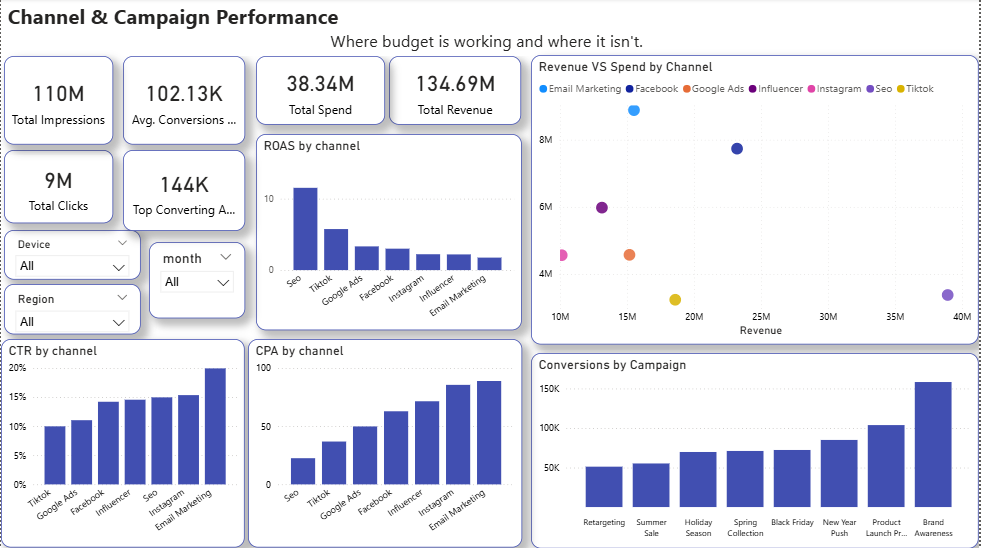

The dashboard page shown, as its layout file describes it:
{"tool":"powerbi","page":{"name":"Channel & Campaign","canvas":[1280,720],"ordinal":1},"visuals":[{"type":"card","fields":{"Values":["Avg(age_group.conversions)"]},"box":[160.2,76.4,160.2,116.1],"z":0},{"type":"card","fields":{"Values":["Sum(campaign_data.Revenue_USD)"]},"box":[508.4,76.4,173.4,89.6],"z":1000},{"type":"card","fields":{"Values":["Sum(campaign_data.Spend_USD)"]},"box":[333.6,76.4,169,89.6],"z":2000},{"type":"clusteredColumnChart","fields":{"Category":["CTR.channel"],"Y":["ROAS.ROAS_fixed"]},"box":[333.6,177.8,348.2,257.1],"z":3000},{"type":"slicer","fields":{"Values":["campaign_data.Device"]},"box":[4.4,304.2,179.3,64.7],"z":4000},{"type":"textbox","box":[4.4,0,1263.7,76.4],"z":5000},{"type":"slicer","fields":{"Values":["campaign_data.Region"]},"box":[4.4,374.7,179.3,66.1],"z":6000},{"type":"slicer","fields":{"Values":["mOm.month"]},"box":[194,318.9,126.4,99.9],"z":7000},{"type":"card","fields":{"Values":["Sum(campaign_data.Clicks)"]},"box":[4.4,198.4,142.5,95.5],"z":8000},{"type":"card","fields":{"Values":["Sum(campaign_data.Impressions)"]},"box":[4.4,76.4,142.5,116.1],"z":9000},{"type":"card","fields":{"Values":["Max(age_group.conversions)"]},"box":[160.2,198.4,160.2,105.8],"z":10000},{"type":"scatterChart","title":"Revenue VS Spend by Channel","fields":{"X":["Sum(campaign_data.Revenue_USD)"],"Series":["campaign_data.Channel"],"Y":["Sum(campaign_data.Spend_USD)"]},"box":[693.6,74.9,586.3,379.1],"z":11000},{"type":"clusteredColumnChart","title":"Conversions by Campaign","fields":{"Category":["most_conversions.Campaign"],"Y":["Sum(most_conversions.Conversions)"]},"box":[693.6,464.3,586.3,255.7],"z":12000},{"type":"clusteredColumnChart","title":"CTR by channel","fields":{"Category":["CTR.channel"],"Y":["CountNonNull(CTR.CTR_percent)"]},"box":[0,446.7,318.9,273.3],"z":13000},{"type":"clusteredColumnChart","title":"CPA by channel","fields":{"Category":["CTR.channel"],"Y":["Sum(CPA.CPA)"]},"box":[323.3,446.7,358.5,273.3],"z":14000}]}

Visuals, with their boxes in screenshot pixels (x1, y1, x2, y2), scaled from the page's 1280x720 canvas onto the 981x548 screenshot:
card - Avg(age_group.conversions): l=123, t=58, r=246, b=147
card - Sum(campaign_data.Revenue_USD): l=390, t=58, r=523, b=126
card - Sum(campaign_data.Spend_USD): l=256, t=58, r=385, b=126
clusteredColumnChart - CTR.channel x ROAS.ROAS_fixed: l=256, t=135, r=523, b=331
slicer - campaign_data.Device: l=3, t=232, r=141, b=281
textbox: l=3, t=0, r=972, b=58
slicer - campaign_data.Region: l=3, t=285, r=141, b=335
slicer - mOm.month: l=149, t=243, r=246, b=319
card - Sum(campaign_data.Clicks): l=3, t=151, r=113, b=224
card - Sum(campaign_data.Impressions): l=3, t=58, r=113, b=147
card - Max(age_group.conversions): l=123, t=151, r=246, b=232
"Revenue VS Spend by Channel" scatterChart: l=532, t=57, r=980, b=346
"Conversions by Campaign" clusteredColumnChart: l=532, t=353, r=980, b=547
"CTR by channel" clusteredColumnChart: l=0, t=340, r=244, b=547
"CPA by channel" clusteredColumnChart: l=248, t=340, r=523, b=547
